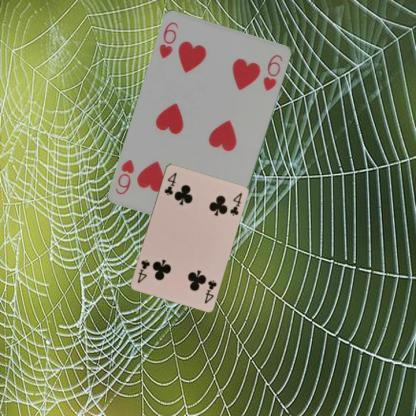4c: (202, 277, 218, 304), (162, 170, 178, 196)
6h: (157, 20, 180, 61)
